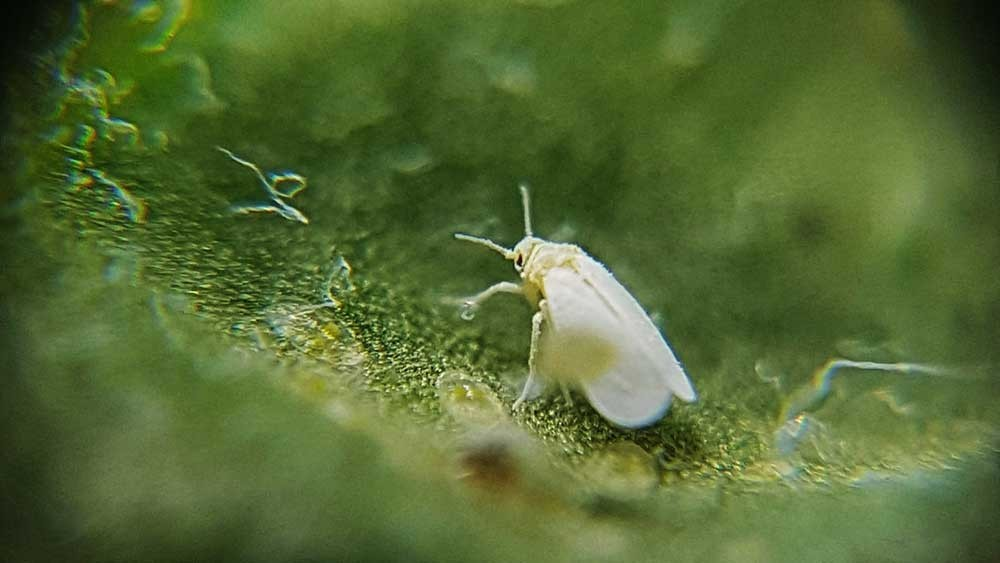Mosca Blanca: (441, 175, 708, 454)
